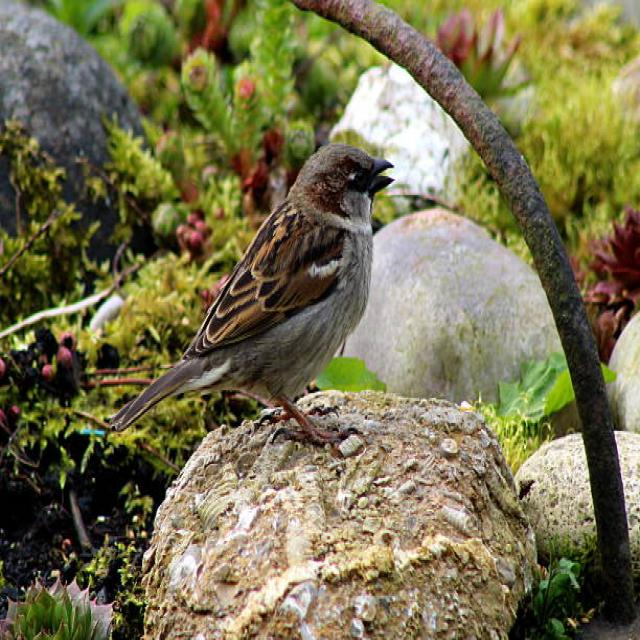bird: (133, 143, 407, 462)
